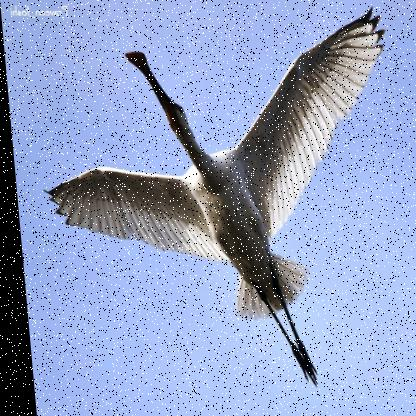Burung: (29, 7, 410, 386)
